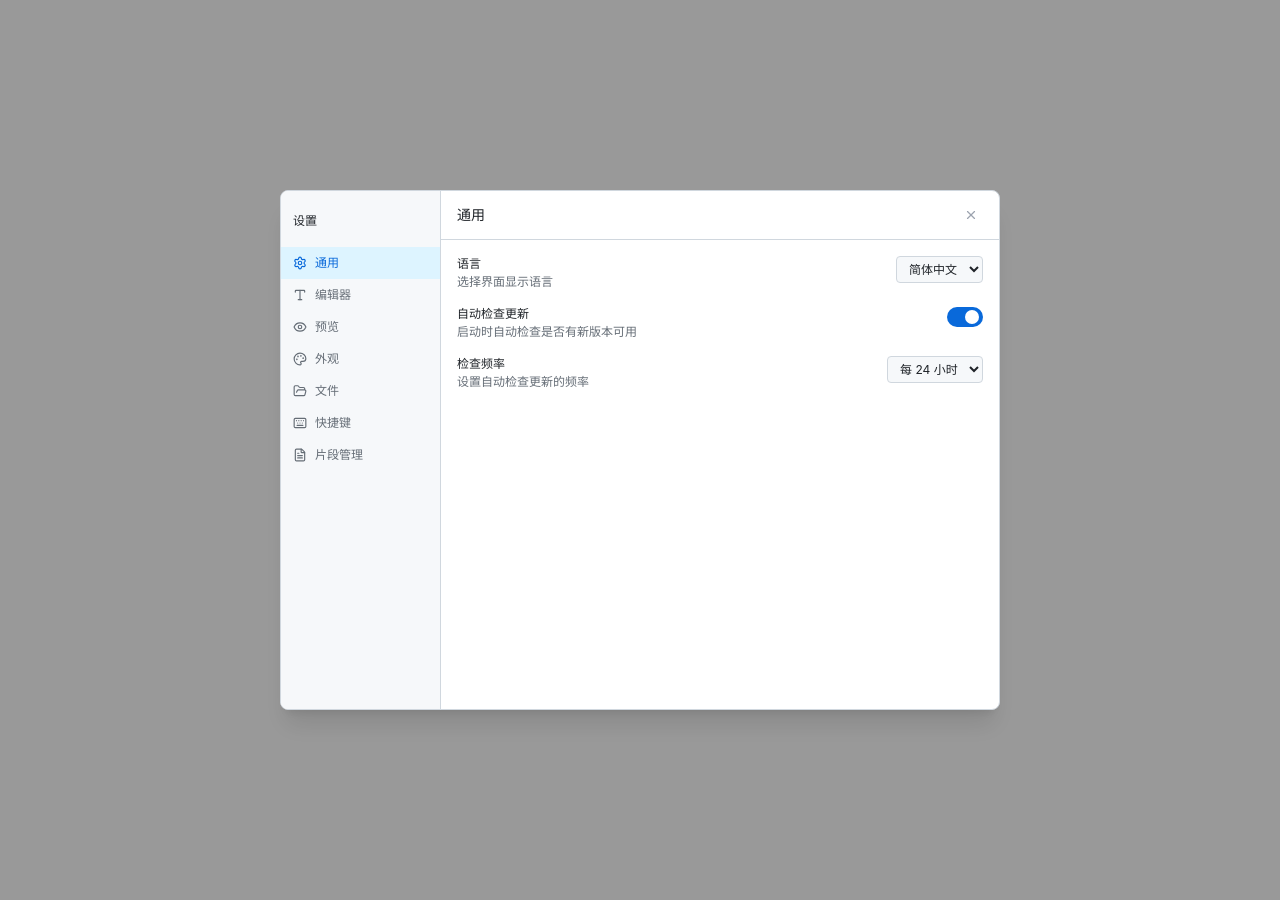
Test: Unified Theme System › SettingsModal does NOT have separate preview theme selector
Click appearance tab
Click the button "外观".
click(360, 359)  # box 281,343 -> 440,375
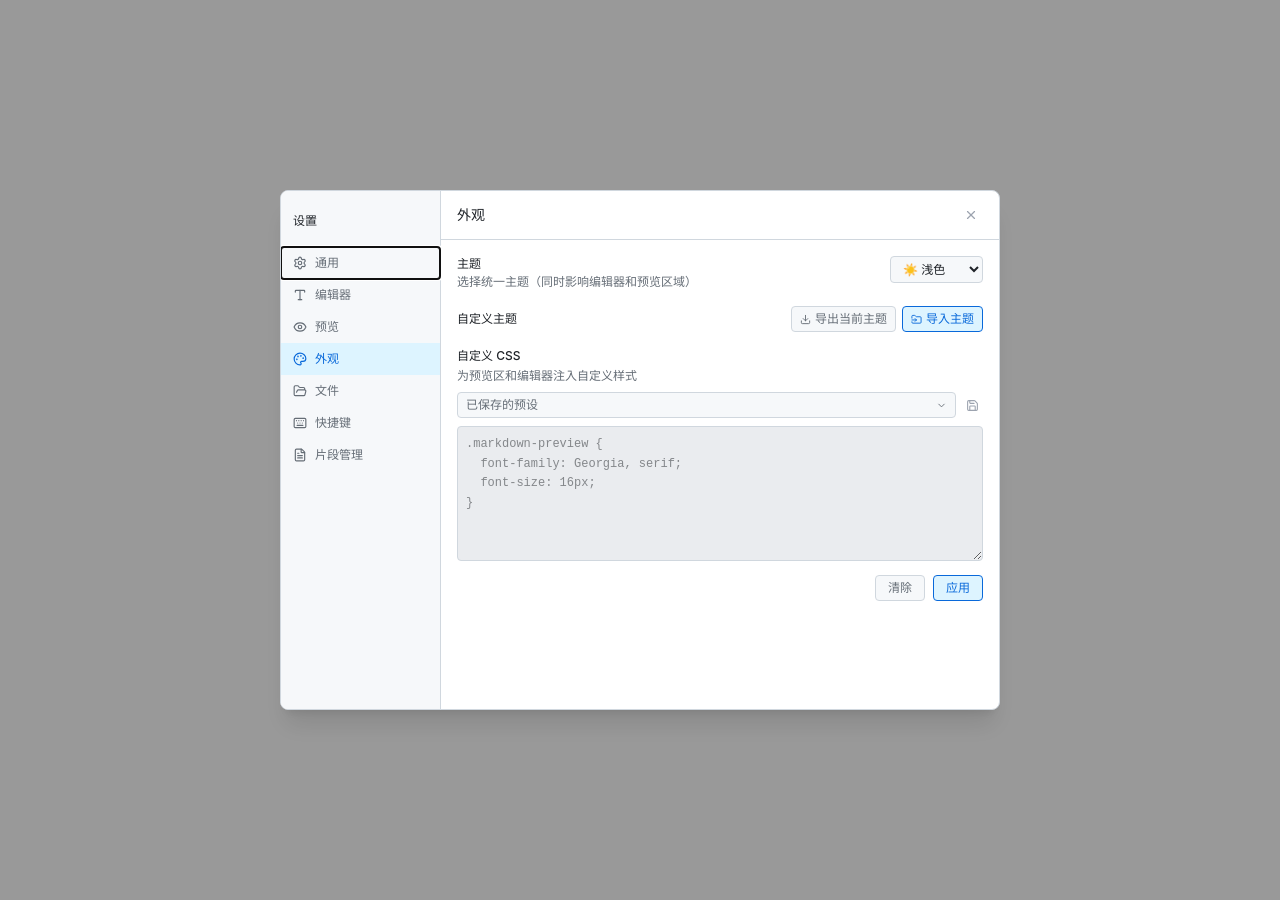
Now the number of dropdowns is 1, box 890,256 -> 983,283
